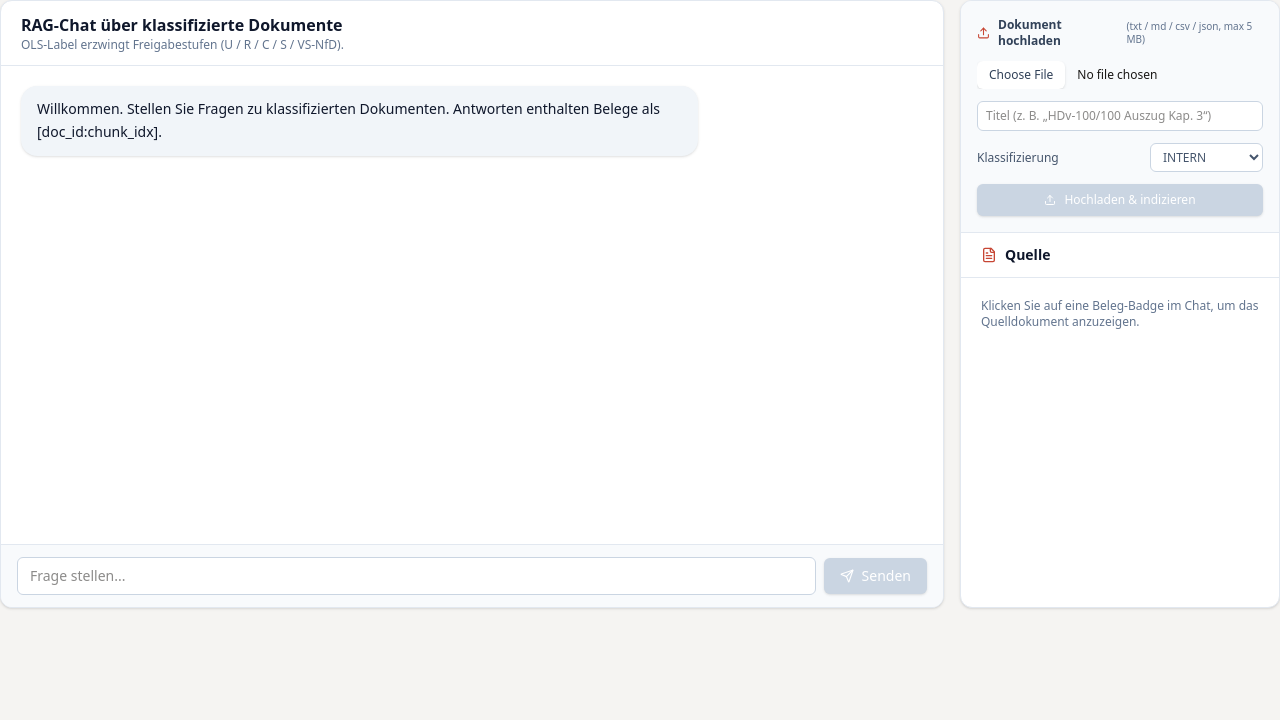
Scenario: DocumentView (london school) › sends a POST to /chat with the last message role=user when the user submits
Type "geo" into the field with placeholder "Frage stellen...". click: {"x": 416, "y": 576}
box: [17,557,816,595]
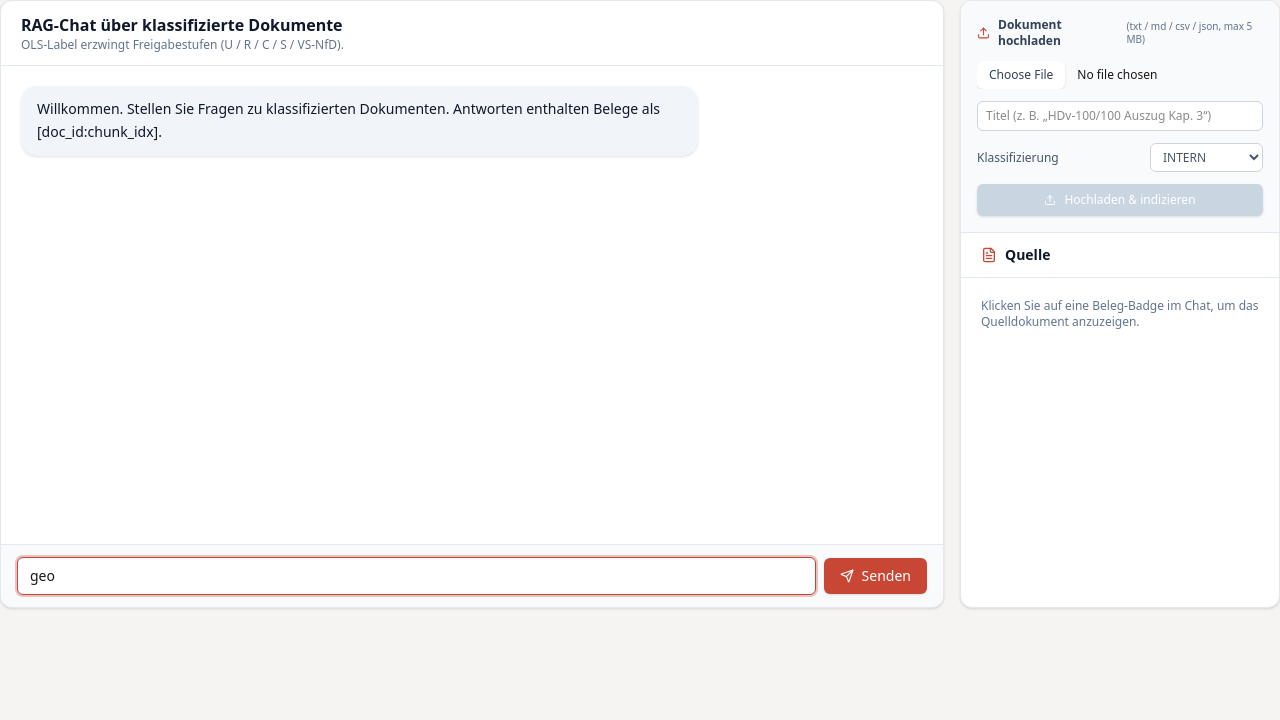
Press Enter
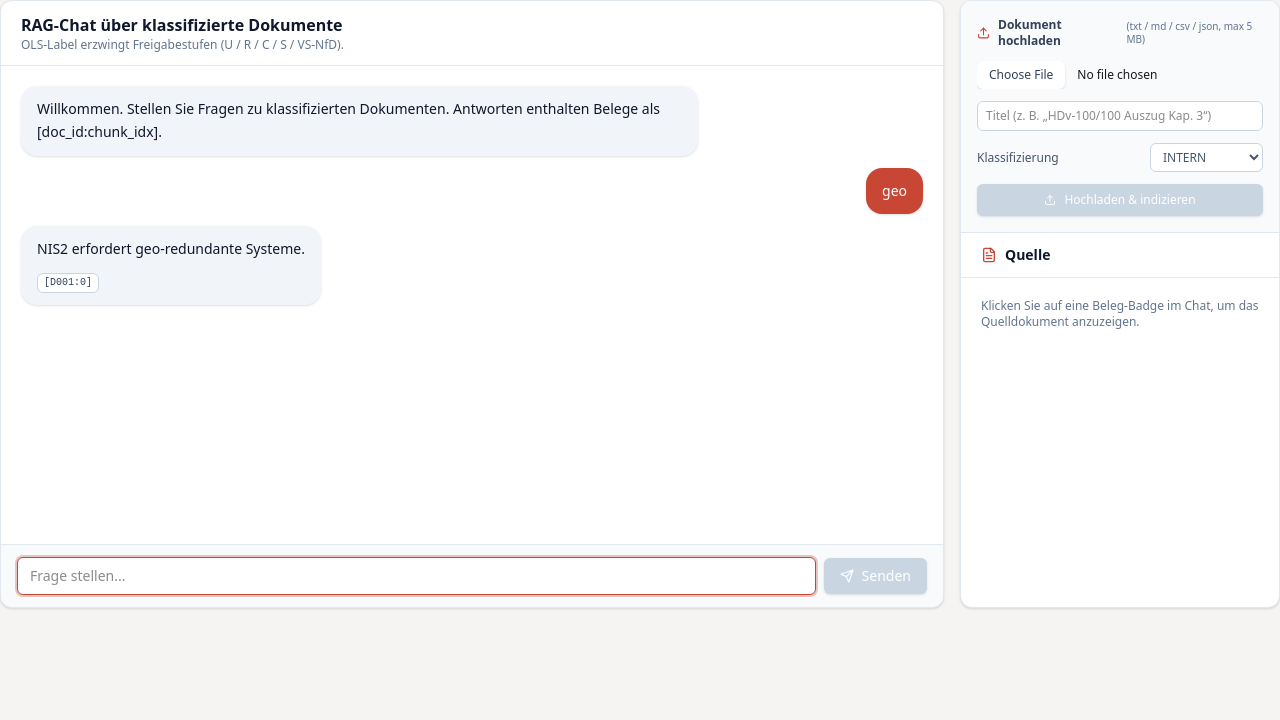
Now the text "geo" is shown, box [882,180,907,202]
